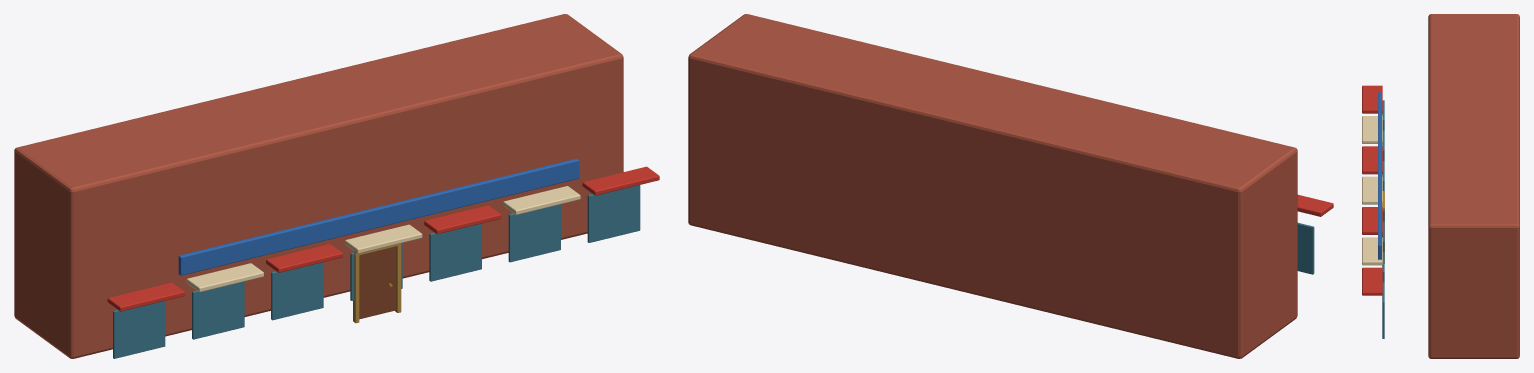
The model's file is neighborhood_storefront_row_a.glb.
3 renders of one model, left to right at view 1: azimuth 30°, elevation 25°; view 2: azimuth 150°, elevation 25°; view 3: azimuth 270°, elevation 25°, orthographic. The views are drawn at different scales.
Parts seen in each view (by area): view 1: SET_Building, SET_SignBand, SET_Window_6, SET_Window_0, SET_Window_1, SET_Window_2, SET_Window_4, SET_Window_5, SET_Business_Door, SET_Awning_0, SET_Awning_3, SET_Awning_6 (+4 smaller); view 2: SET_Building, SET_Window_0, SET_Awning_0; view 3: SET_Building, SET_SignBand, SET_Awning_6, SET_Awning_0, SET_Awning_5, SET_Awning_2, SET_Awning_3, SET_Awning_1, SET_Awning_4, SET_Window_6.
Part boxes in pixels (bbox=[...]): SET_Building: bbox=[14, 14, 623, 358]; SET_SignBand: bbox=[178, 158, 579, 275]; SET_Window_6: bbox=[587, 185, 640, 242]; SET_Window_0: bbox=[113, 301, 165, 358]; SET_Window_1: bbox=[192, 281, 244, 339]; SET_Window_2: bbox=[271, 262, 323, 320]; SET_Window_4: bbox=[429, 223, 481, 281]; SET_Window_5: bbox=[508, 204, 560, 262]; SET_Business_Door: bbox=[359, 246, 396, 319]; SET_Awning_0: bbox=[107, 282, 184, 311]; SET_Awning_3: bbox=[345, 224, 422, 253]; SET_Awning_6: bbox=[582, 166, 659, 195]; SET_Building: bbox=[688, 14, 1297, 358]; SET_Window_0: bbox=[1297, 222, 1314, 274]; SET_Awning_0: bbox=[1297, 194, 1333, 216]; SET_Building: bbox=[1428, 14, 1519, 358]; SET_SignBand: bbox=[1378, 92, 1381, 259]; SET_Awning_6: bbox=[1362, 267, 1382, 295]; SET_Awning_0: bbox=[1362, 85, 1382, 113]; SET_Awning_5: bbox=[1362, 237, 1382, 265]; SET_Awning_2: bbox=[1362, 146, 1382, 174]; SET_Awning_3: bbox=[1362, 176, 1382, 204]; SET_Awning_1: bbox=[1362, 116, 1382, 143]; SET_Awning_4: bbox=[1362, 207, 1382, 234]; SET_Window_6: bbox=[1382, 282, 1384, 338].
Size of what is drawn, in the model's own units: 22 by 6.59 by 6.9.
